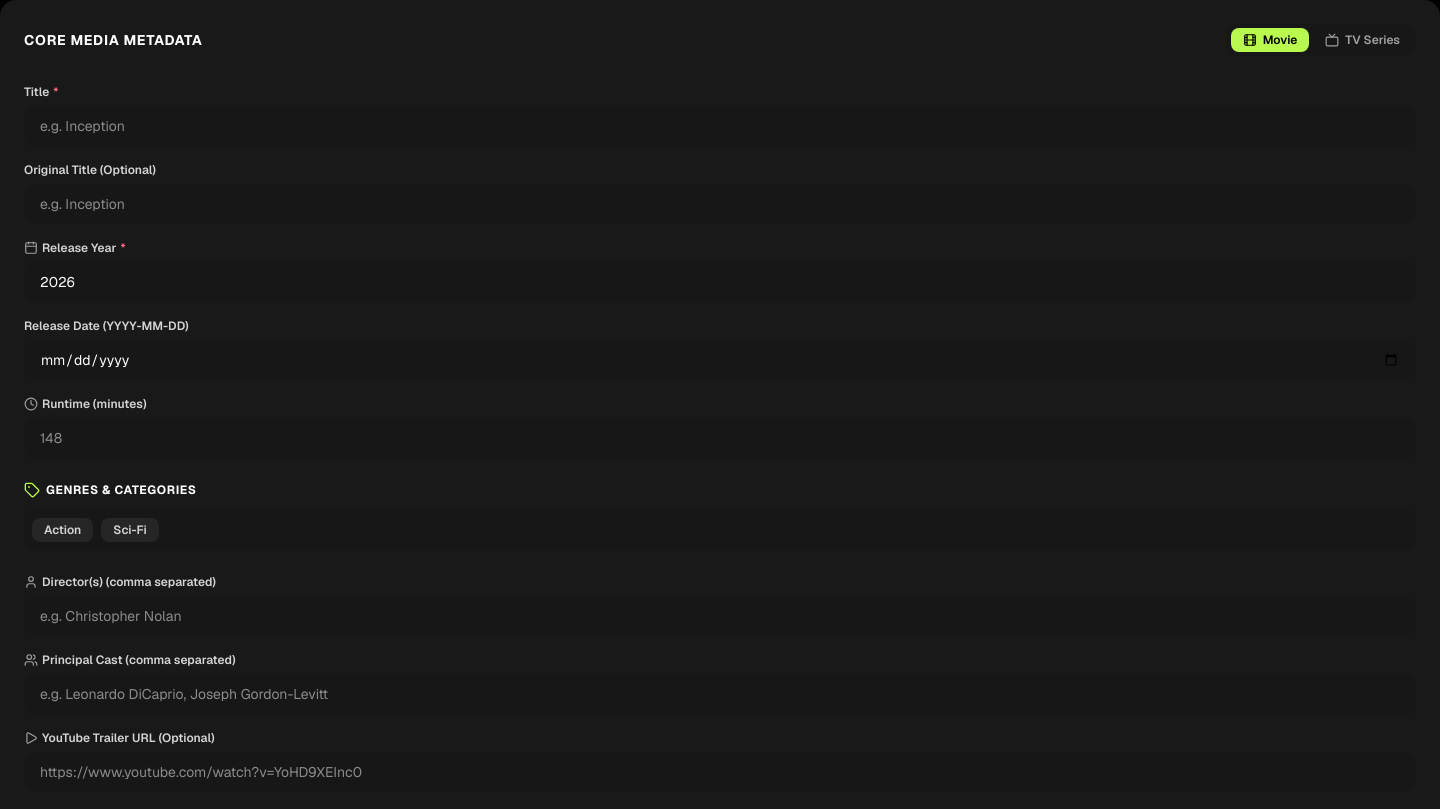
Scenario: AddMediaForm › switches between Movie and TV Series fields
Check: the number field with placeholder "148" is shown, box x1=24 y1=418 x2=1416 y2=458
Check: the text "Seasons" is not shown
Click the button "TV Series" at (1363, 40), box x1=1313 y1=28 x2=1412 y2=52
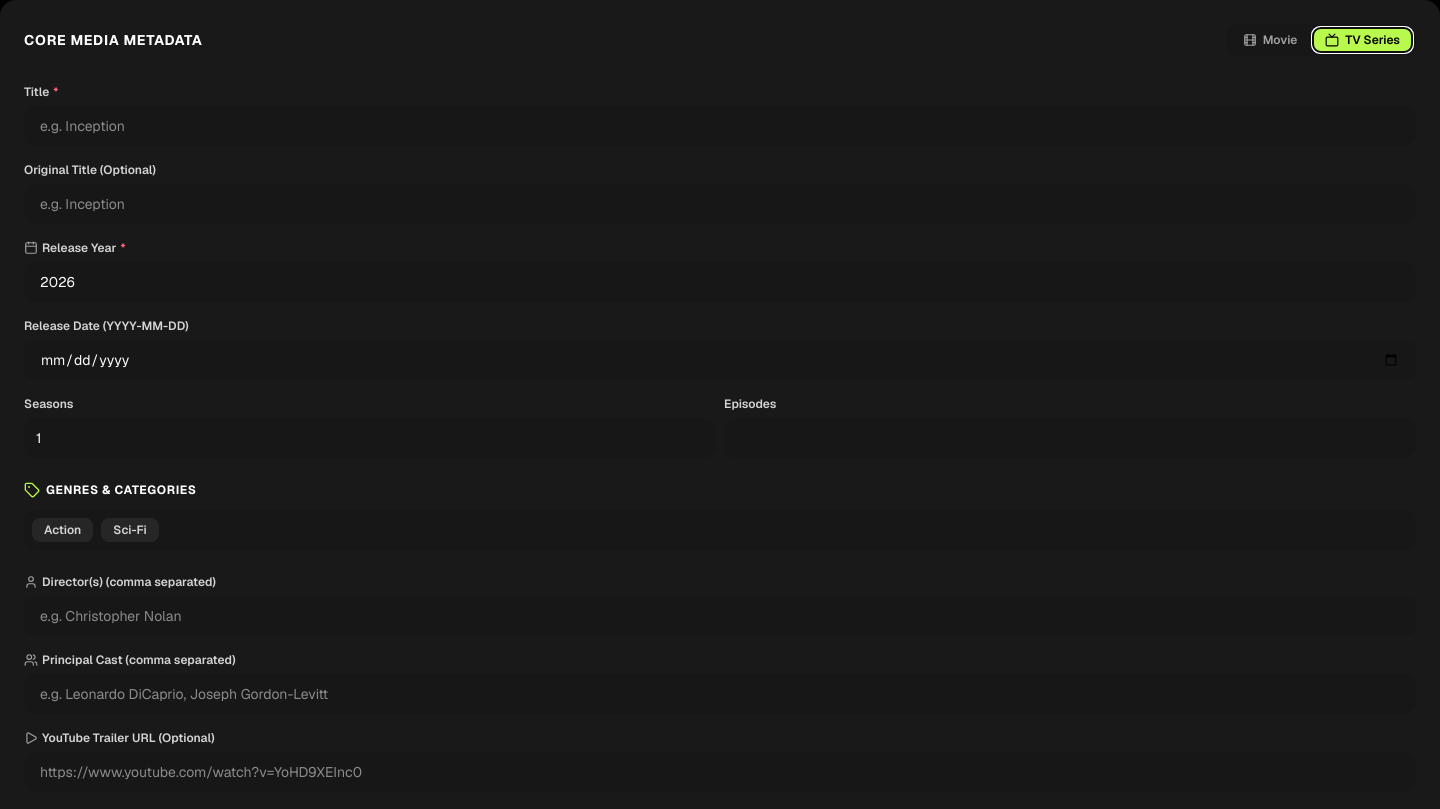
Check: the number field with placeholder "148" is gone
Check: the text "Seasons" is shown, box x1=24 y1=396 x2=73 y2=412
Check: the text "Episodes" is shown, box x1=724 y1=396 x2=776 y2=412
